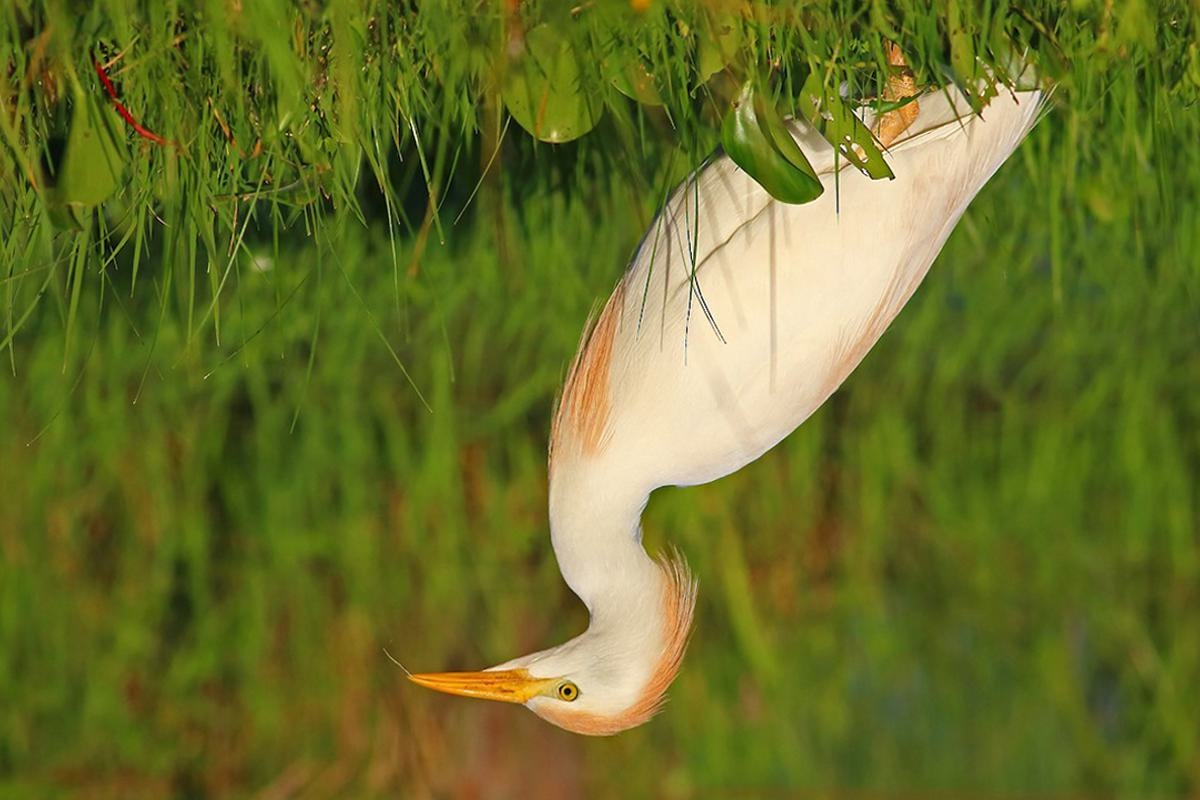egret: (388, 30, 1031, 743)
